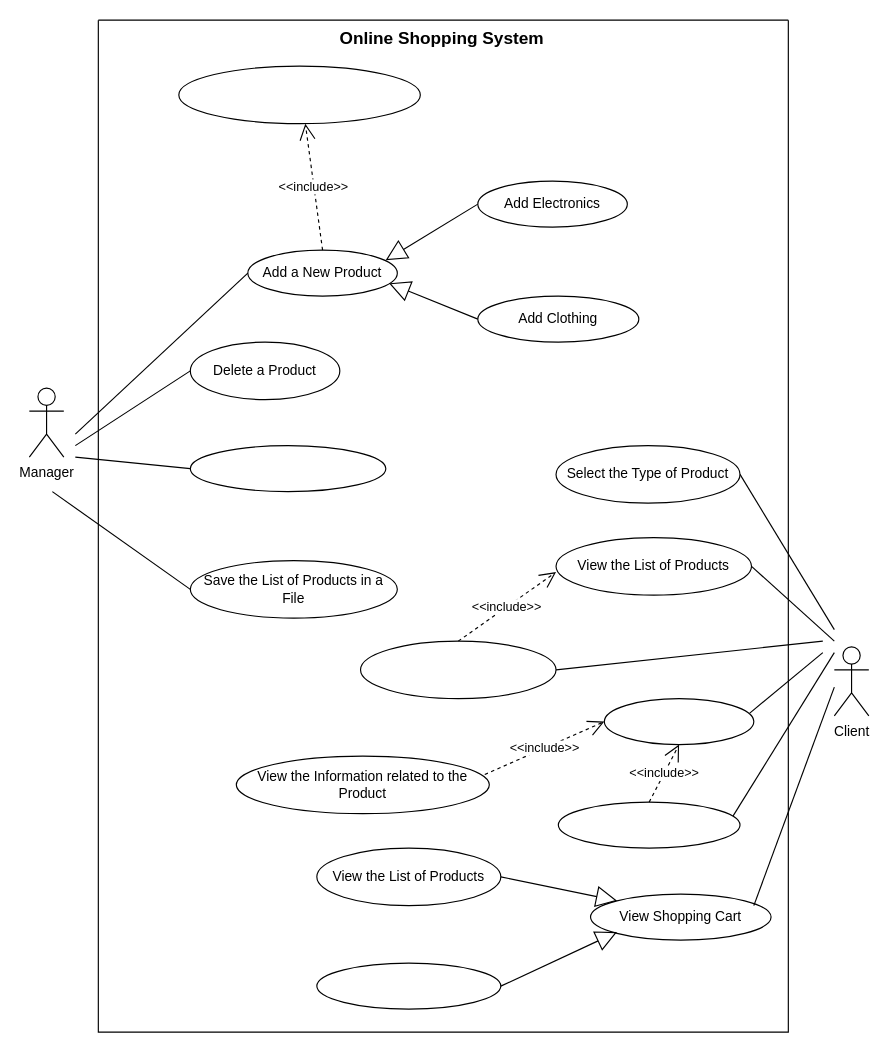
The diagram is 889 pixels wide and 1052 high, and some of its shapes have lost their labels. Here are the shapes that lost their labels. From the top down, the centre of each, then its label:
At (x=299, y=94): "Check for Maximum Number of Products".
At (x=287, y=468): "Print the List of Products".
At (x=457, y=669): "Sort the List Alphabetically".
At (x=678, y=721): "Select a Product".
At (x=648, y=824): "Add Items to Shopping Cart".
At (x=408, y=985): "View the Final Price".
